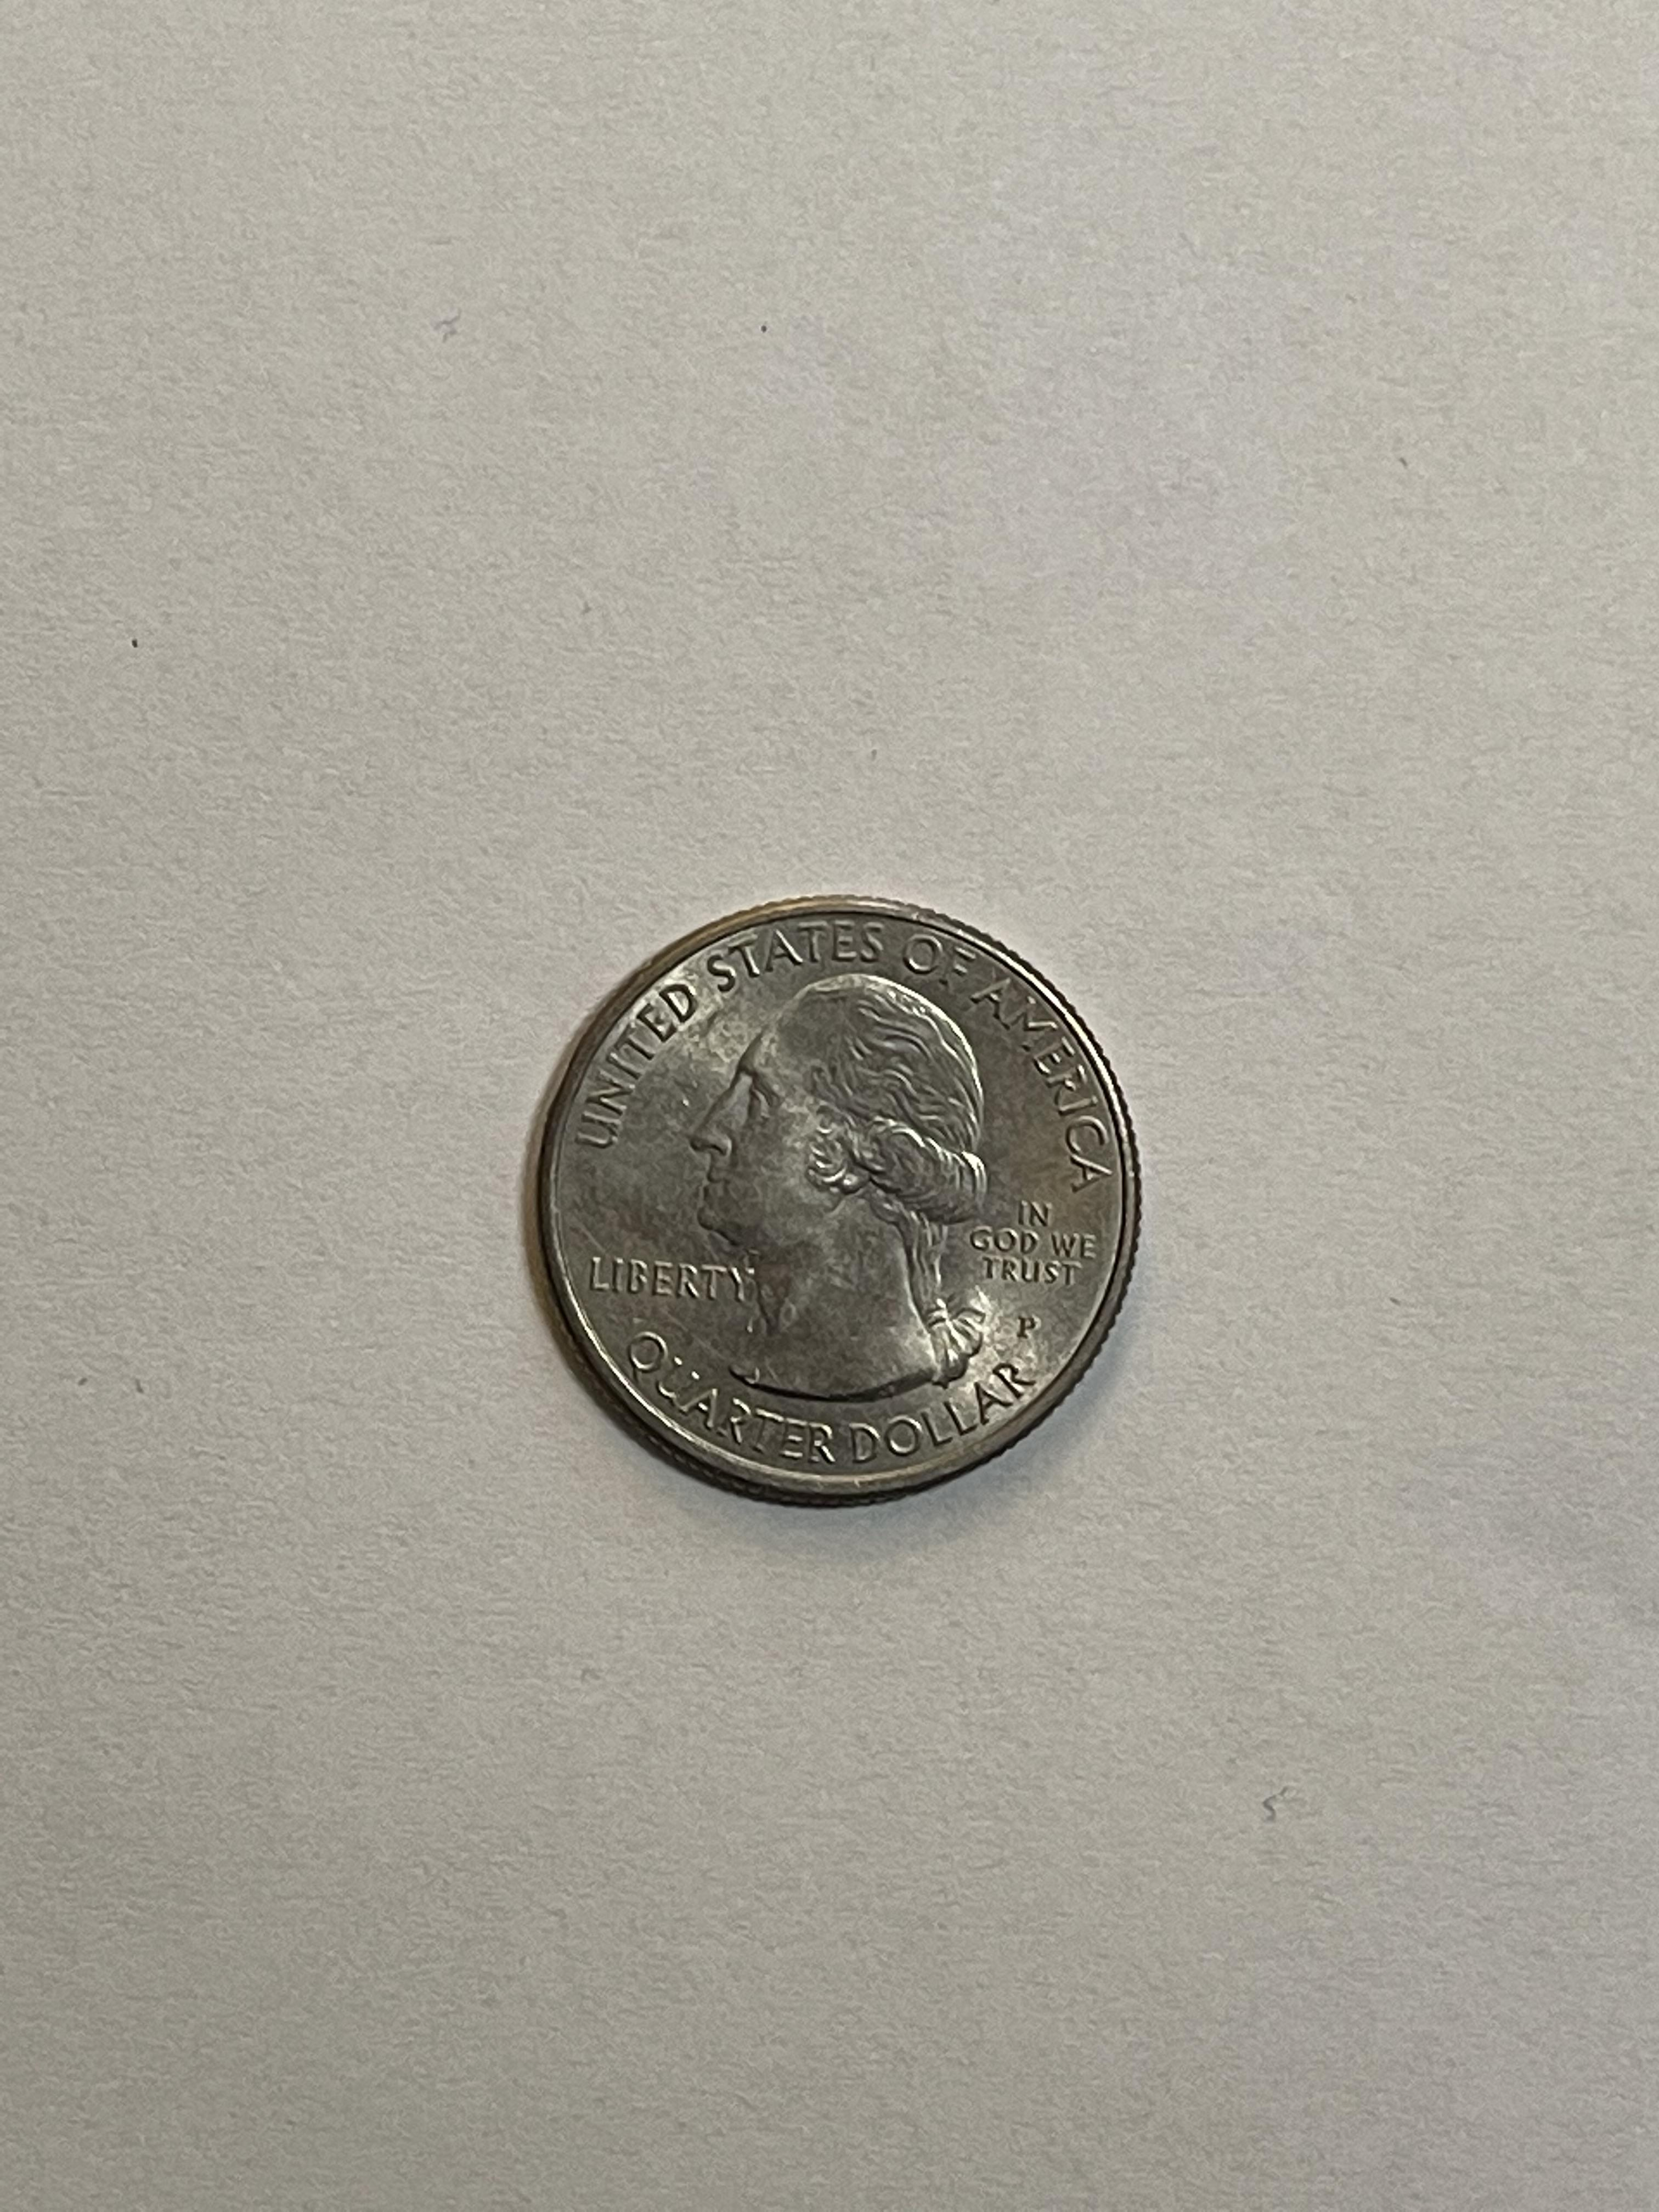Quarter: (533, 888, 1148, 1510)
